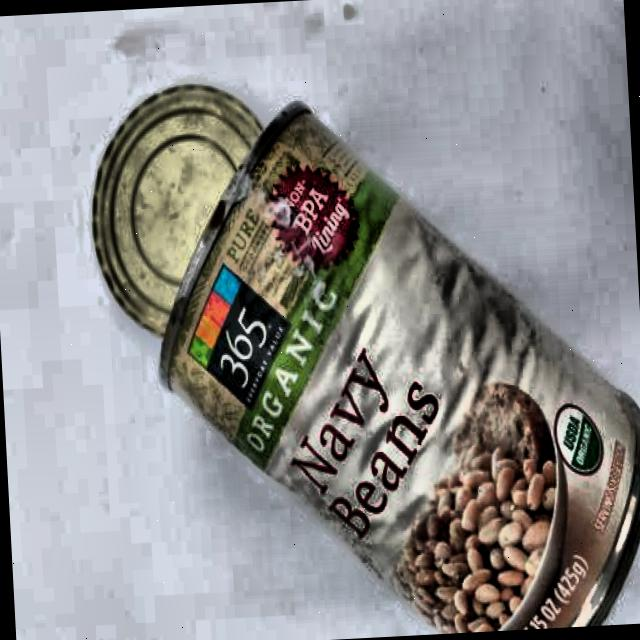metal: (88, 66, 640, 640)
